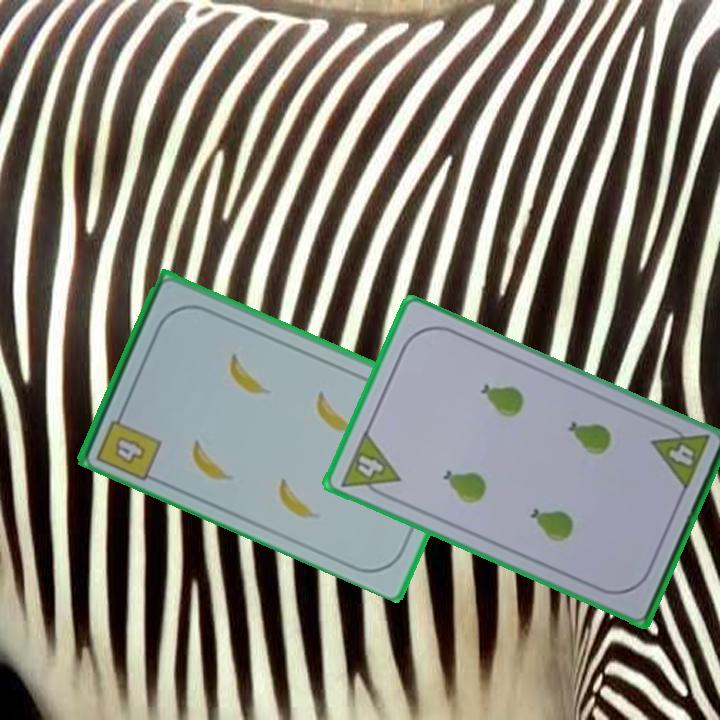4b: (93, 403, 165, 483)
4p: (337, 428, 403, 504), (648, 418, 712, 495)
